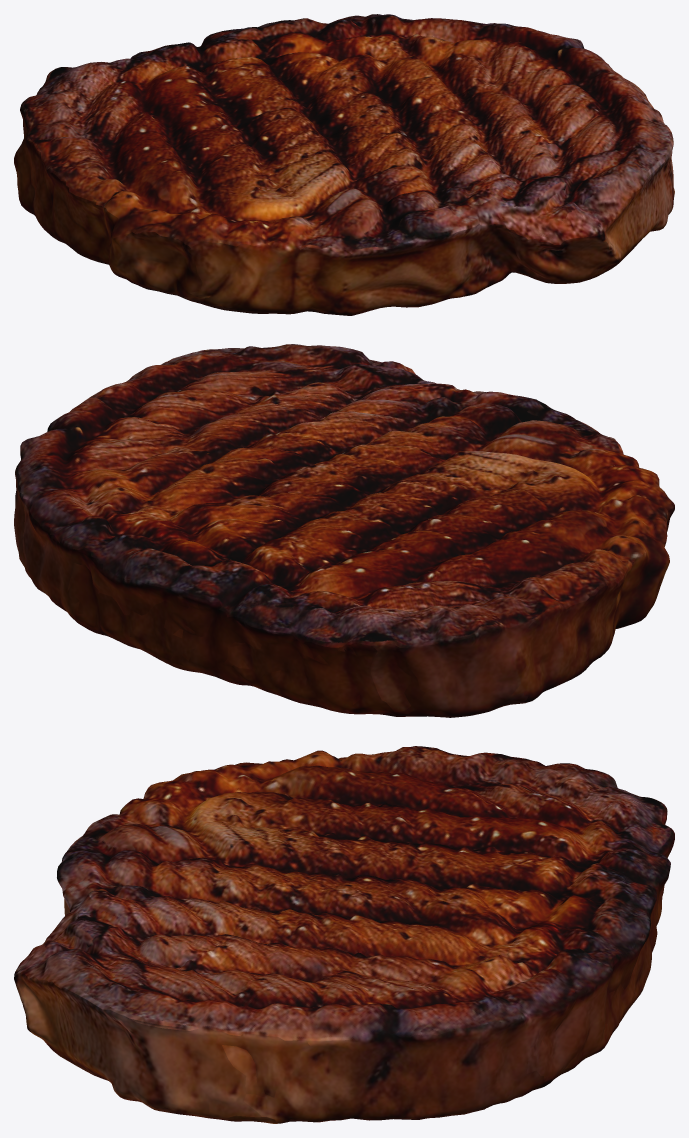
File: shark_bait.glb
3 renders of one model, top to bottom at view 1: azimuth 30°, elevation 25°; view 2: azimuth 150°, elevation 25°; view 3: azimuth 270°, elevation 25°, orthographic. The views are drawn at different scales.
Visible parts, largest first — view 1: tmpu3bzf9o1.ply; view 2: tmpu3bzf9o1.ply; view 3: tmpu3bzf9o1.ply.
Part boxes in pixels (x1=…): tmpu3bzf9o1.ply: x1=14, y1=14, x2=674, y2=315; tmpu3bzf9o1.ply: x1=14, y1=344, x2=674, y2=717; tmpu3bzf9o1.ply: x1=14, y1=746, x2=674, y2=1123.
Bounding box in the file's own units: 1.96 × 0.3426 × 1.86.
Materials: 1 (1 with a texture image).
